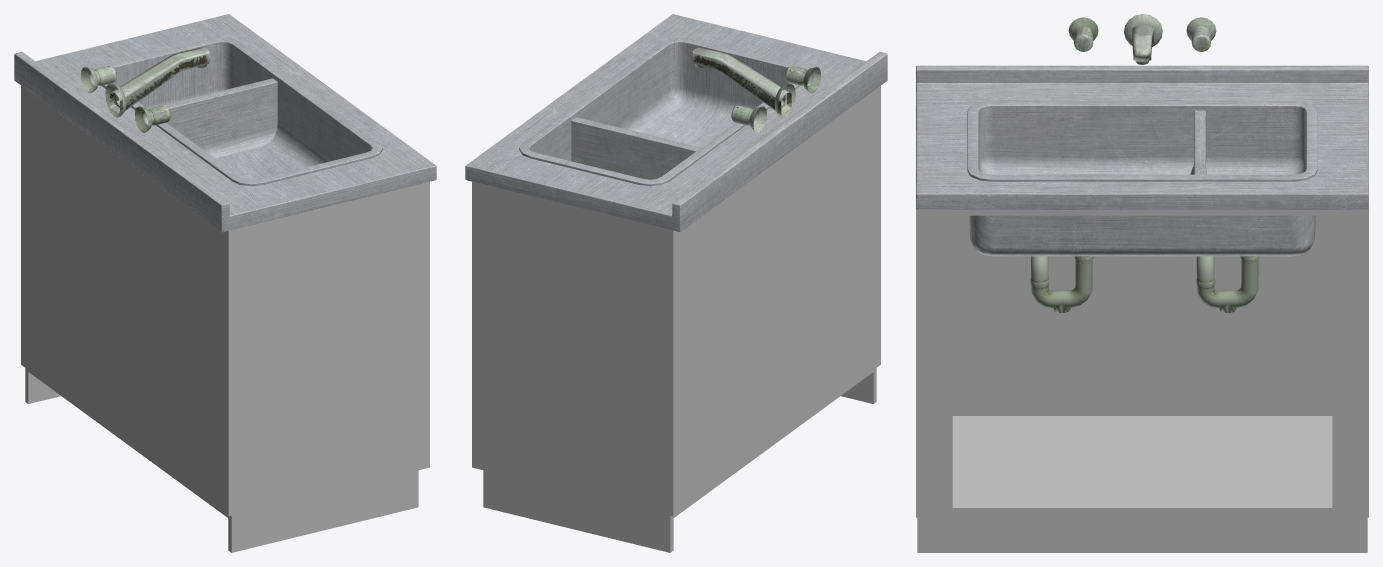
File: SM_KitchenCounterC.FBX
3 views of the same model, side by side, from view 1: azimuth 30°, elevation 25°; view 2: azimuth 150°, elevation 25°; view 3: azimuth 270°, elevation 25° (orthographic). The views are drawn at different scales.
Visible parts, largest first — view 1: SM_KitchenCounterC_LOD0; view 2: SM_KitchenCounterC_LOD0; view 3: SM_KitchenCounterC_LOD0.
Part boxes in pixels (box(x1,y1,x2,y2)): SM_KitchenCounterC_LOD0: box(14, 14, 436, 552); SM_KitchenCounterC_LOD0: box(465, 14, 887, 552); SM_KitchenCounterC_LOD0: box(916, 14, 1368, 552).
Size of what is drawn, in the model's own units: 60.8 by 108 by 100.
